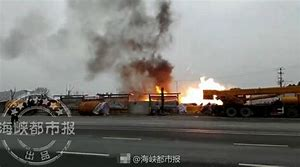smoke: (85, 1, 173, 89)
